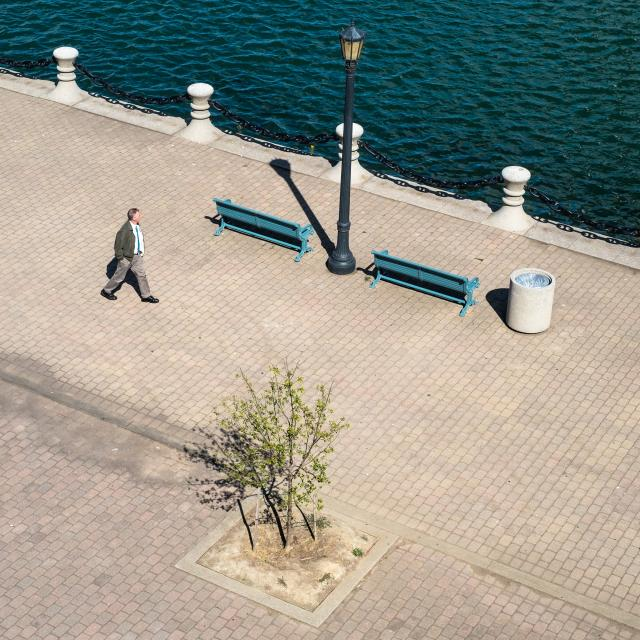Street Light: (326, 28, 365, 272)
